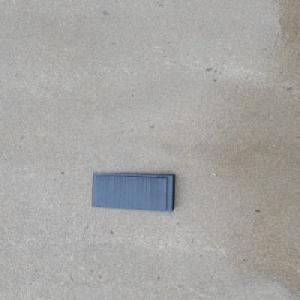PlasticPart: (91, 171, 176, 212)
